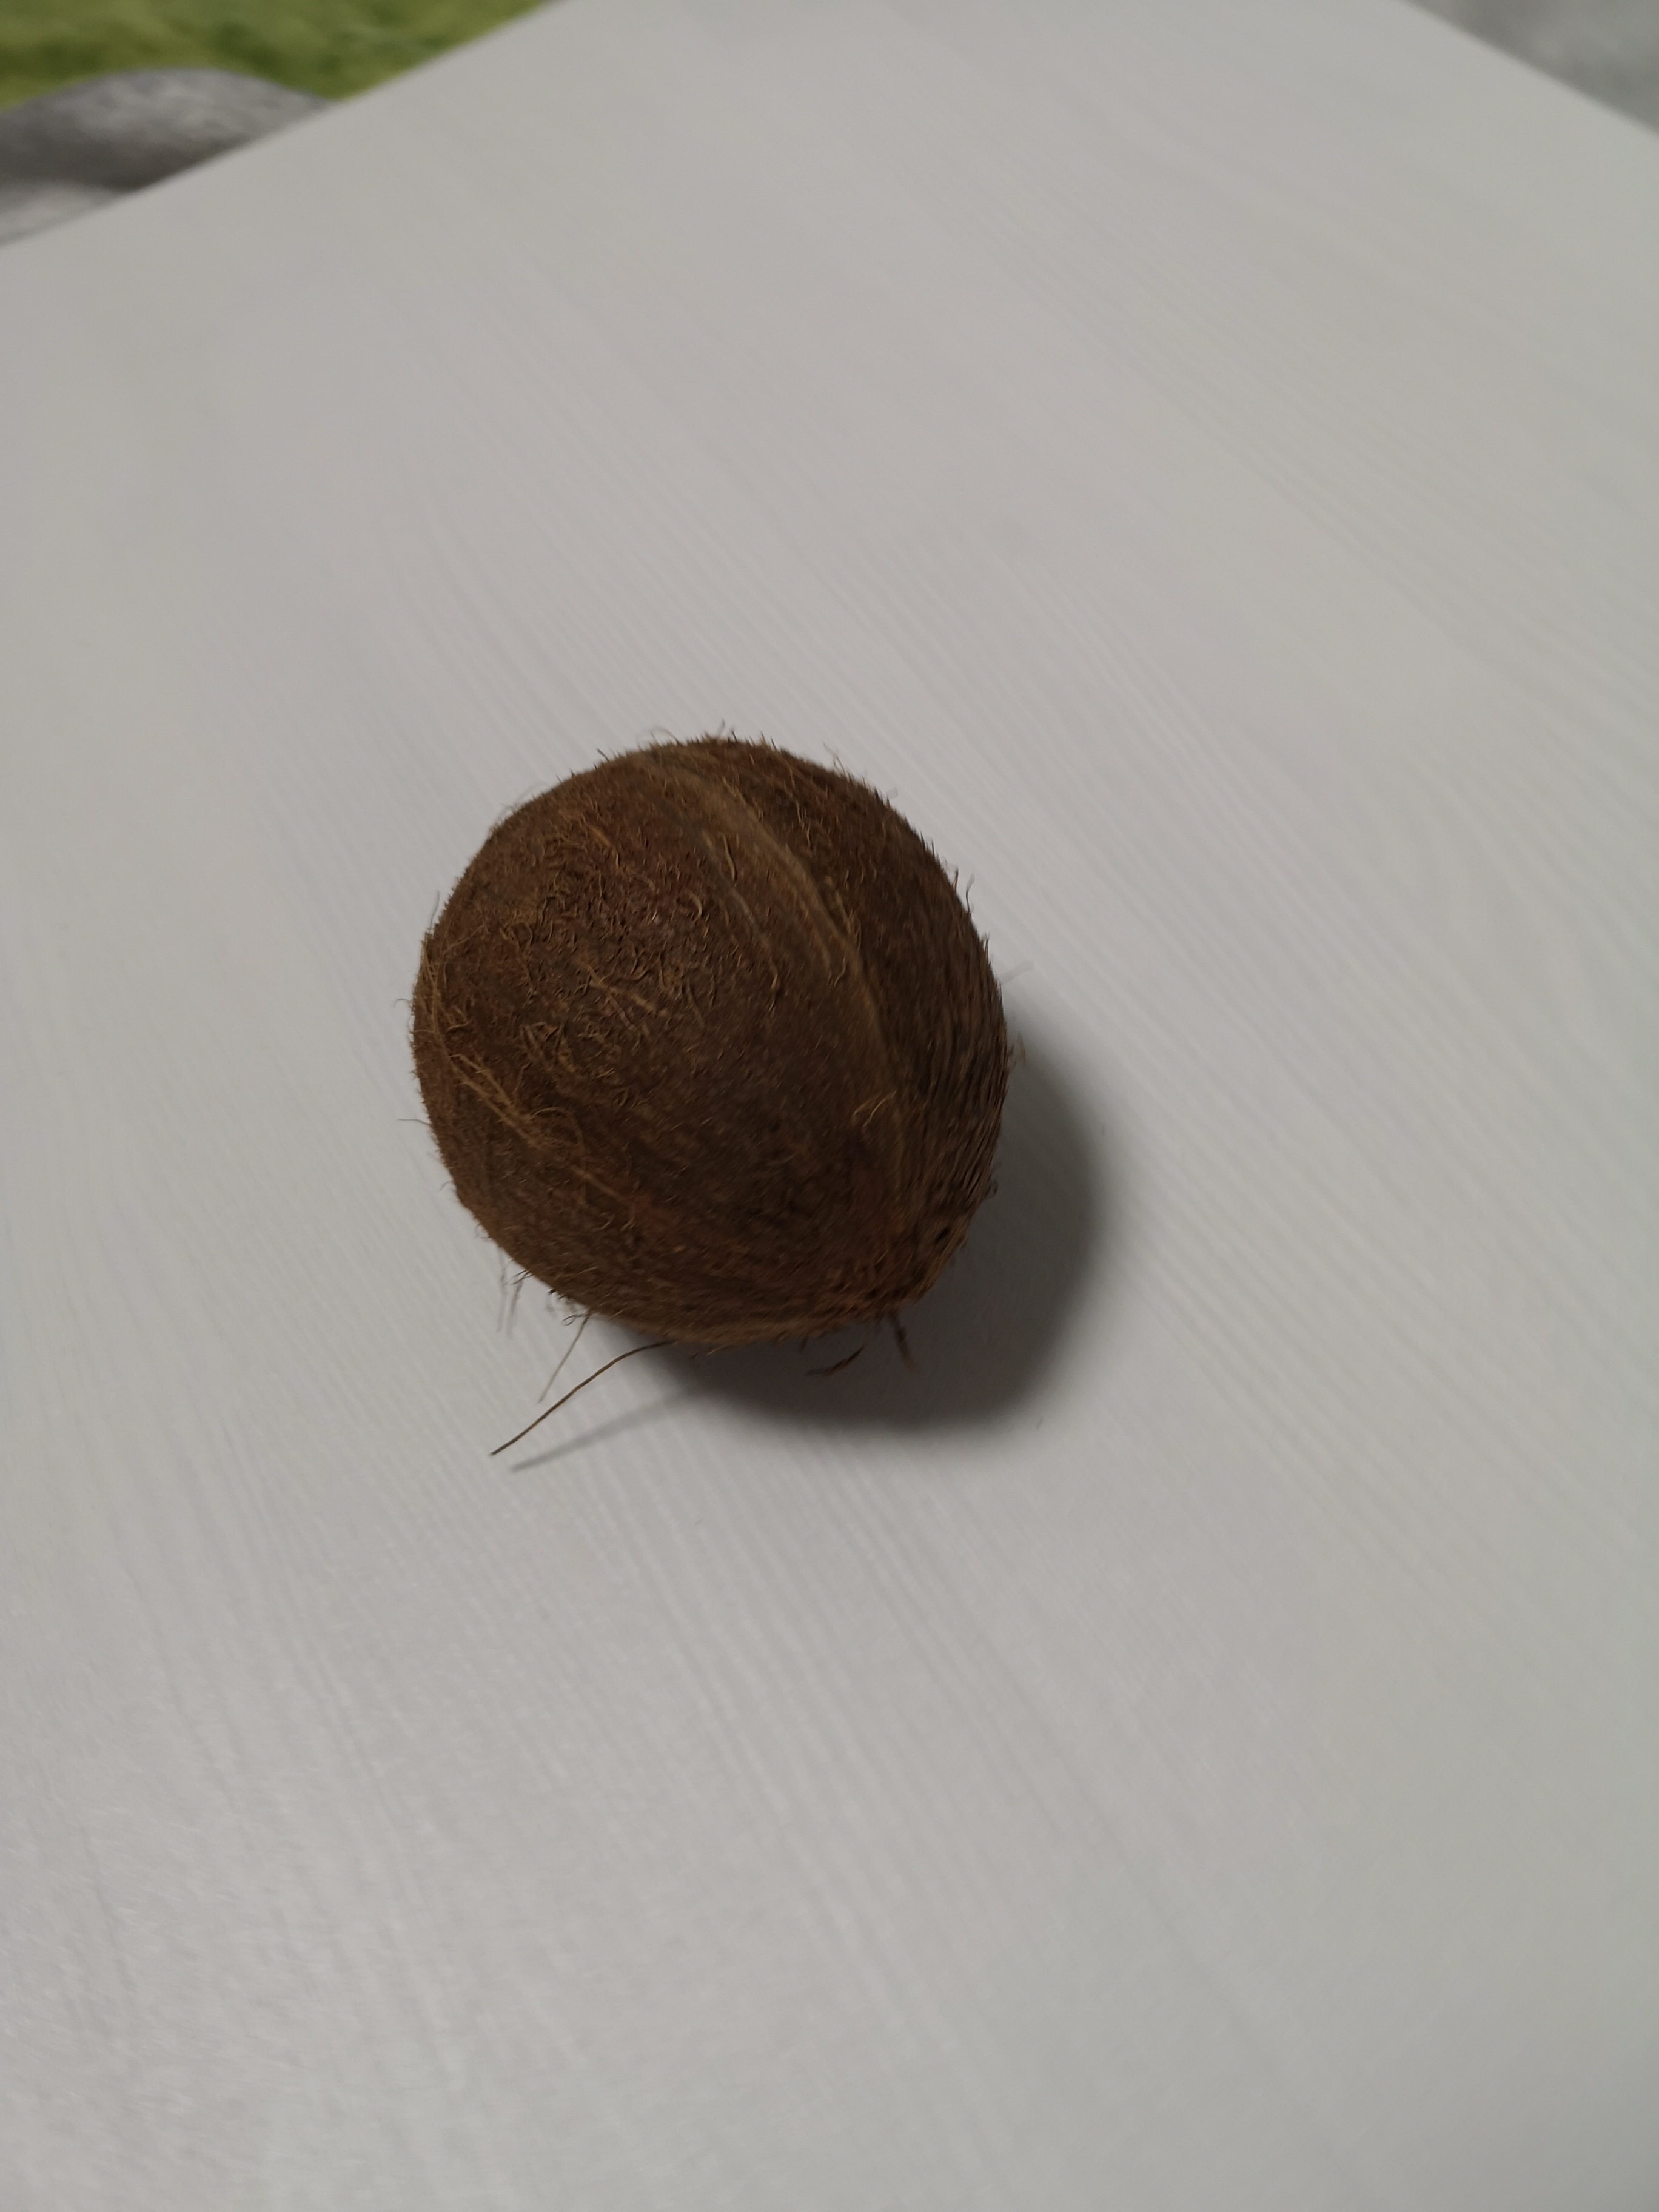coconut: (406, 728, 1023, 1366)
